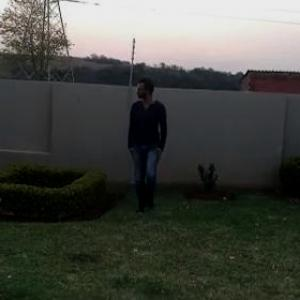follow: (119, 68, 169, 242)
